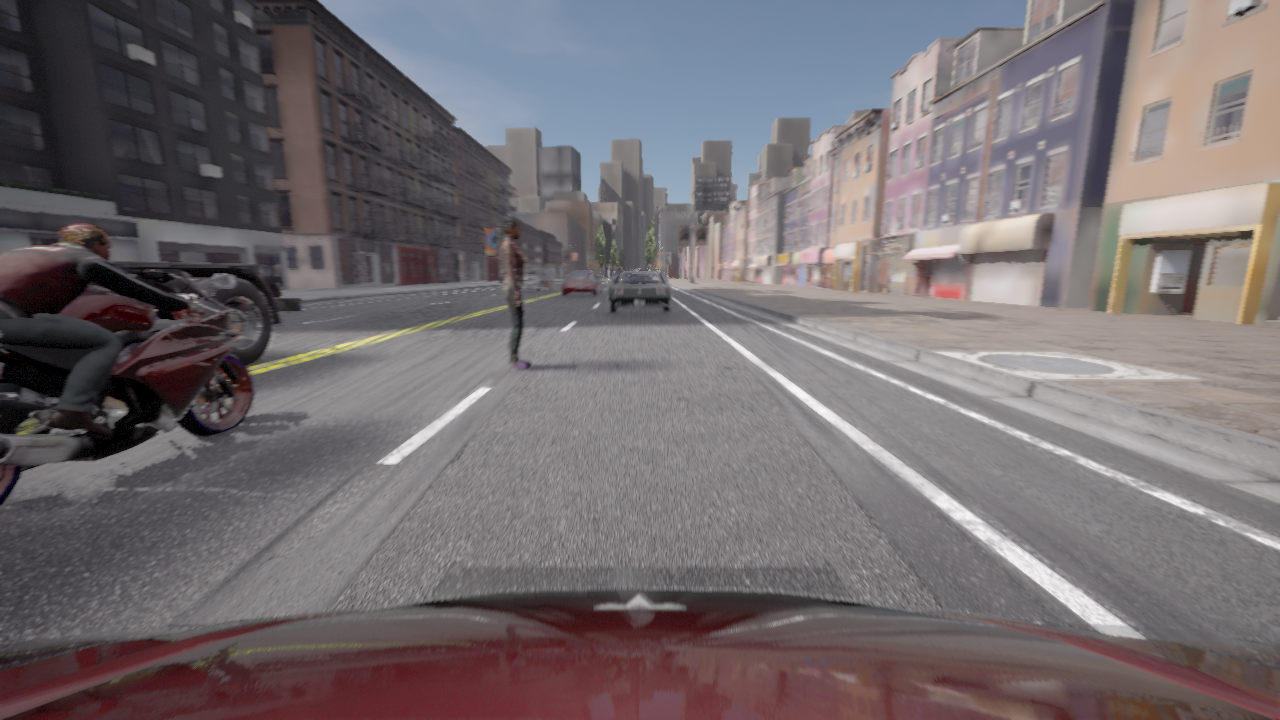cyclist: (0, 588, 1279, 719), (0, 270, 253, 506), (90, 261, 301, 365), (608, 270, 671, 311), (561, 270, 602, 295), (522, 267, 554, 290), (633, 268, 645, 269), (613, 274, 615, 278)
pedestrian: (500, 219, 530, 368)
